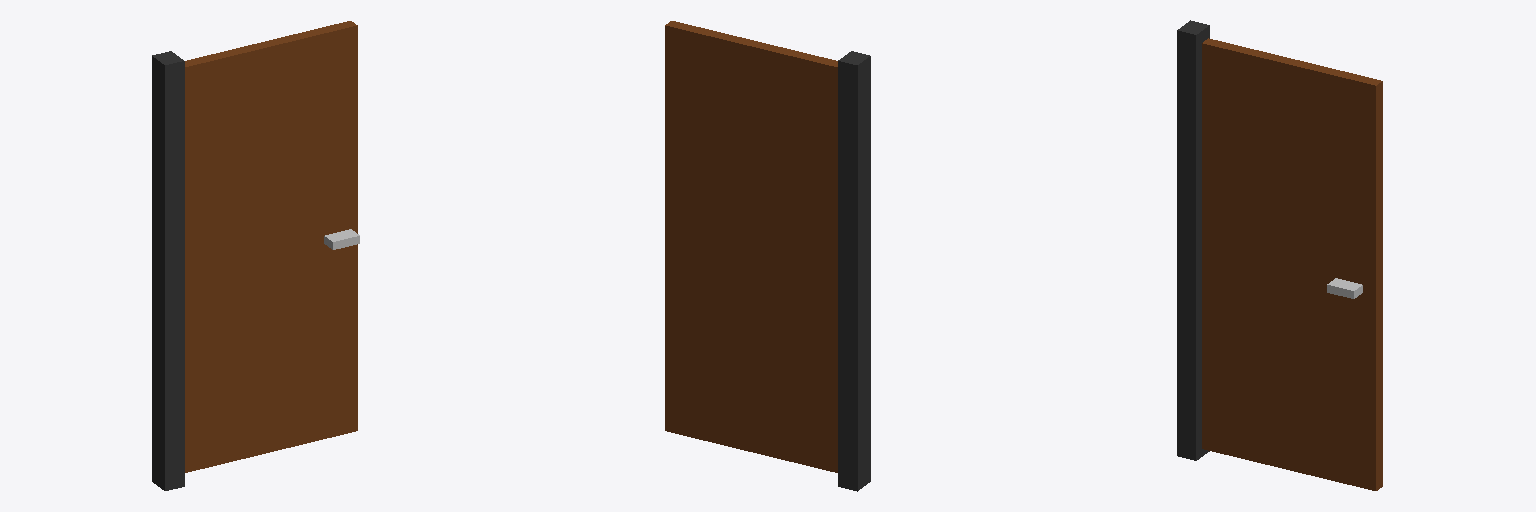
URDF robot description (door):
<?xml version="1.0"?>
<robot name="door">
  <link name="frame">
    <inertial><origin xyz="0 0 1"/><mass value="20"/><inertia ixx="7" iyy="7" izz="0.1" ixy="0" ixz="0" iyz="0"/></inertial>
    <visual><origin xyz="-0.06 0 1"/><geometry><box size="0.1 0.12 2.1"/></geometry><material name="frame_color"><color rgba="0.25 0.25 0.25 1"/></material></visual>
    <collision><origin xyz="-0.06 0 1"/><geometry><box size="0.1 0.12 2.1"/></geometry></collision>
  </link>
  <link name="panel">
    <inertial><origin xyz="0.45 0 1"/><mass value="8"/><inertia ixx="2.67" iyy="3.21" izz="0.54" ixy="0" ixz="0" iyz="0"/></inertial>
    <visual><origin xyz="0.45 0 1"/><geometry><box size="0.9 0.06 2"/></geometry><material name="door_color"><color rgba="0.5 0.3 0.15 1"/></material></visual>
    <collision><origin xyz="0.45 0 1"/><geometry><box size="0.9 0.06 2"/></geometry></collision>
  </link>
  <joint name="hinge" type="revolute">
    <parent link="frame"/><child link="panel"/><origin xyz="0 0 0"/><axis xyz="0 0 1"/>
    <limit lower="0" upper="1.7" effort="100" velocity="5"/><dynamics damping="0.5" friction="0.05"/>
  </joint>
  <link name="handle">
    <inertial><mass value="0.15"/><inertia ixx="0.0003" iyy="0.0003" izz="0.0003" ixy="0" ixz="0" iyz="0"/></inertial>
    <visual><geometry><box size="0.14 0.08 0.04"/></geometry><material name="handle_color"><color rgba="0.8 0.8 0.8 1"/></material></visual>
    <collision><geometry><box size="0.14 0.08 0.04"/></geometry></collision>
  </link>
  <joint name="handle_mount" type="fixed"><parent link="panel"/><child link="handle"/><origin xyz="0.78 -0.10 1"/></joint>
</robot>

--- What the picture shows (computed from the rendered views, not written in the file) ---
The picture shows the robot from 3 angles, left to right: view 1: azimuth 30°, elevation 25°; view 2: azimuth 150°, elevation 25°; view 3: azimuth 330°, elevation 25°; orthographic projection.
Robot: door — 3 links, 2 joints (1 revolute, 1 fixed); root link frame; default pose: every joint at zero.
Links seen in each view (by area): view 1: panel, frame, handle; view 2: panel, frame; view 3: panel, frame, handle.
Link boxes in pixels (x1,y1,x2,y2): panel: [185, 21, 357, 472]; frame: [152, 51, 184, 490]; handle: [324, 229, 359, 249]; panel: [665, 21, 837, 472]; frame: [838, 51, 870, 491]; panel: [1202, 38, 1382, 490]; frame: [1177, 20, 1209, 460]; handle: [1327, 278, 1362, 298].
Bounding box of the posed robot: 1.01 × 0.2 × 2.1 m (x, y, z).
Geometry: primitives only (box / cylinder / sphere), no mesh files.
